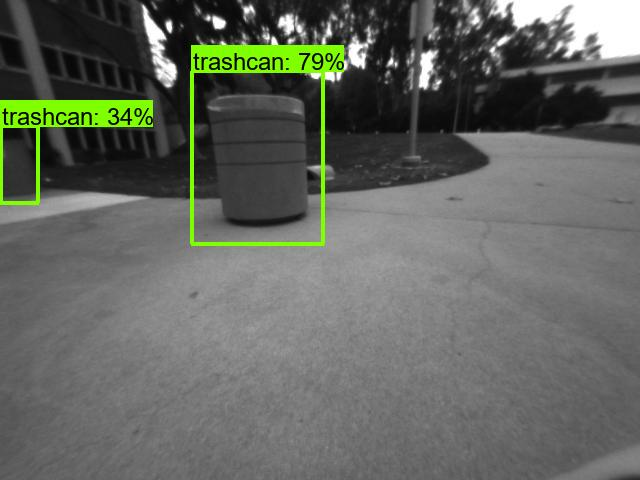trashcan: (205, 95, 316, 223)
